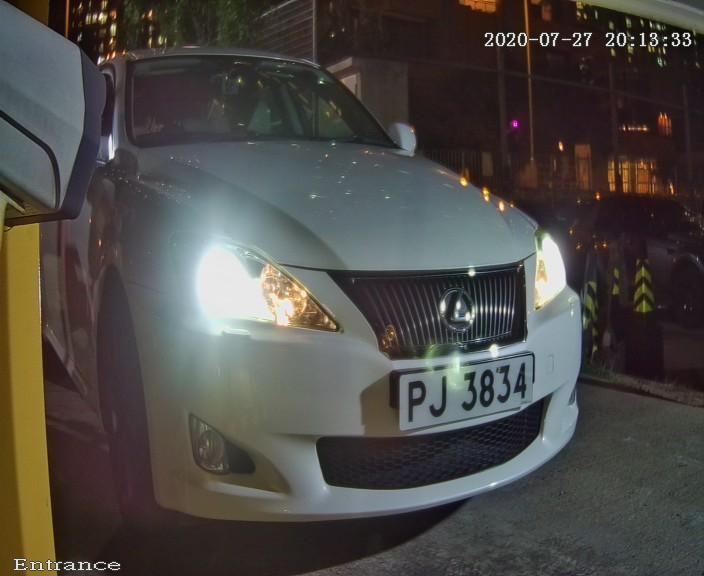privatecar: (73, 11, 595, 548)
